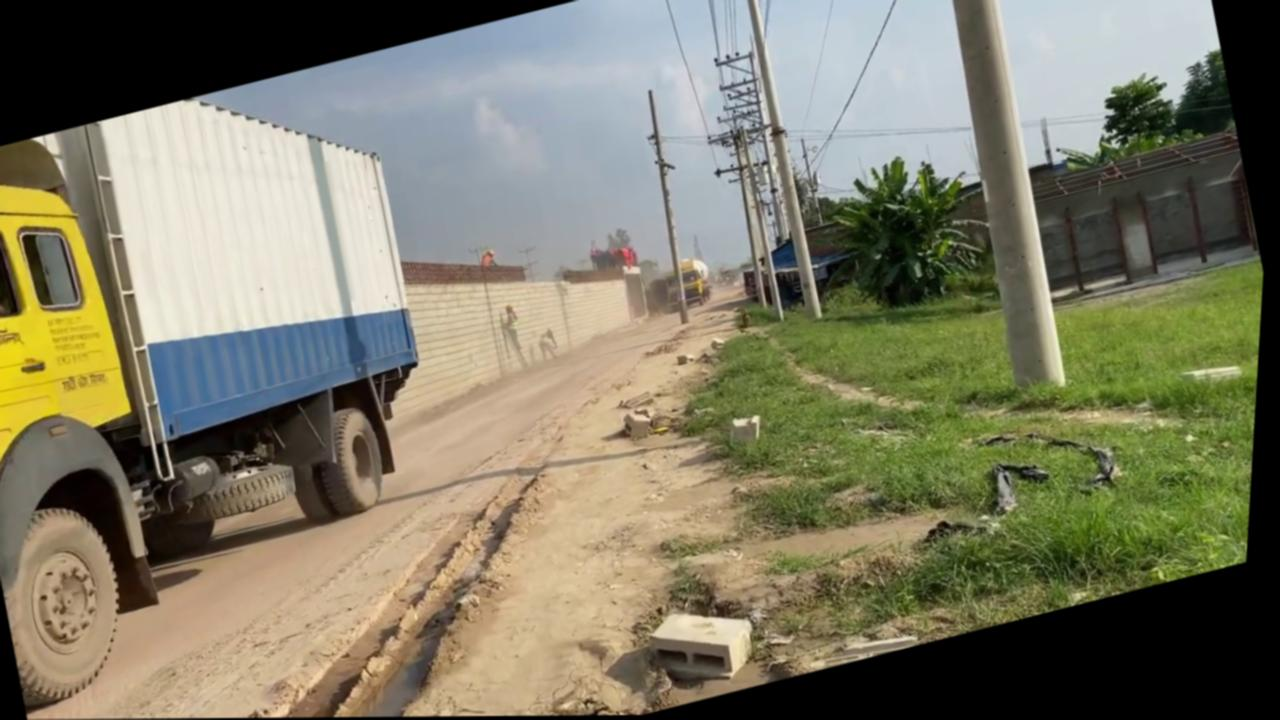Muddy road: (0, 347, 846, 720)
Obstacle: (647, 594, 772, 698)
Pole: (898, 0, 1096, 401), (689, 0, 868, 331), (718, 0, 843, 325), (627, 88, 712, 326)
Traffic-sign: (806, 139, 1003, 326), (1089, 67, 1187, 162), (1159, 48, 1240, 144)
Tree: (0, 54, 499, 711), (679, 254, 720, 307)
Upstairs: (364, 59, 653, 268)
